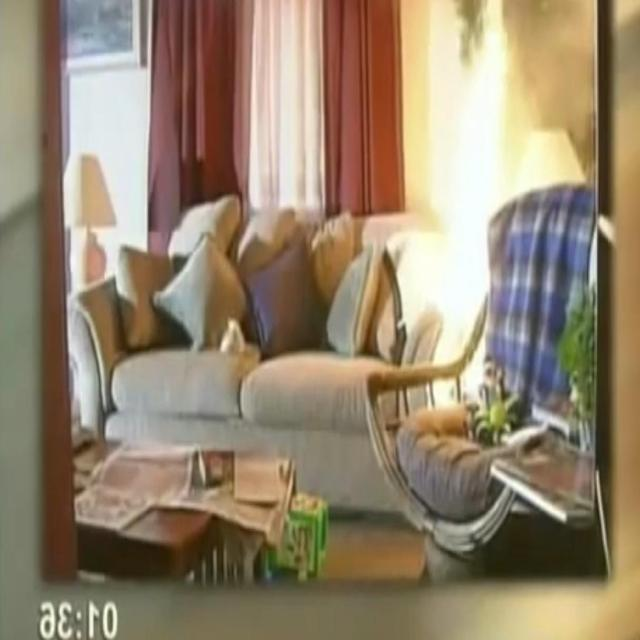smoke: (416, 0, 514, 404)
